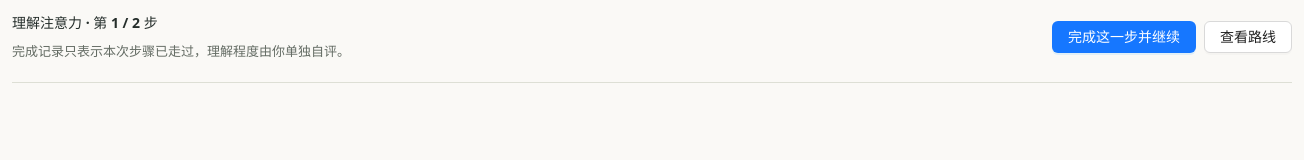
Scenario: a conflicting completion preserves the reading location and provides a review action
Later steps or results of the test are not shown.
Click the button "完成这一步并继续" at (1124, 37), box [1052,21,1196,53]
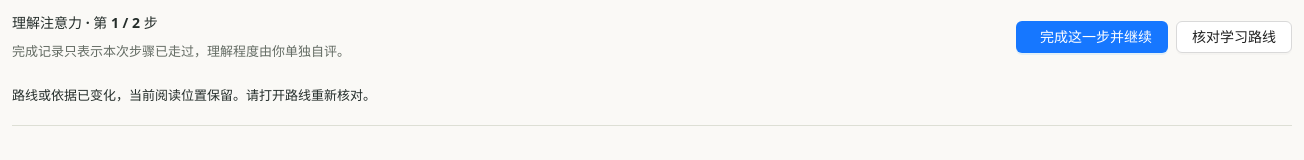
Result: the message shows "当前阅读位置保留" at [12,86,376,104]
